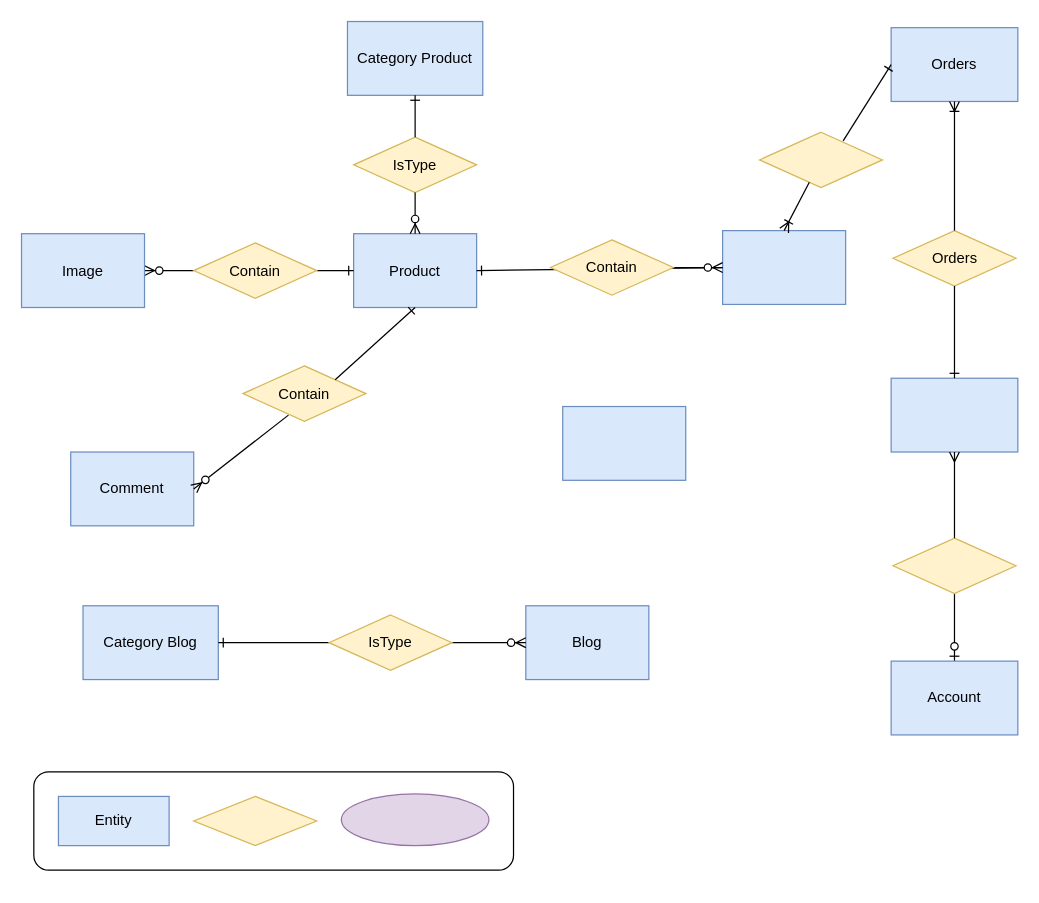
This 1039x903 diagram has some shape labels left out. Each missing label, with the centre of its shape:
Action: point (254, 820)
Address: point (954, 414)
Atribute: point (414, 819)
Creates: point (820, 159)
Feedback: point (623, 442)
Has: point (954, 565)
Order Detail: point (783, 266)
